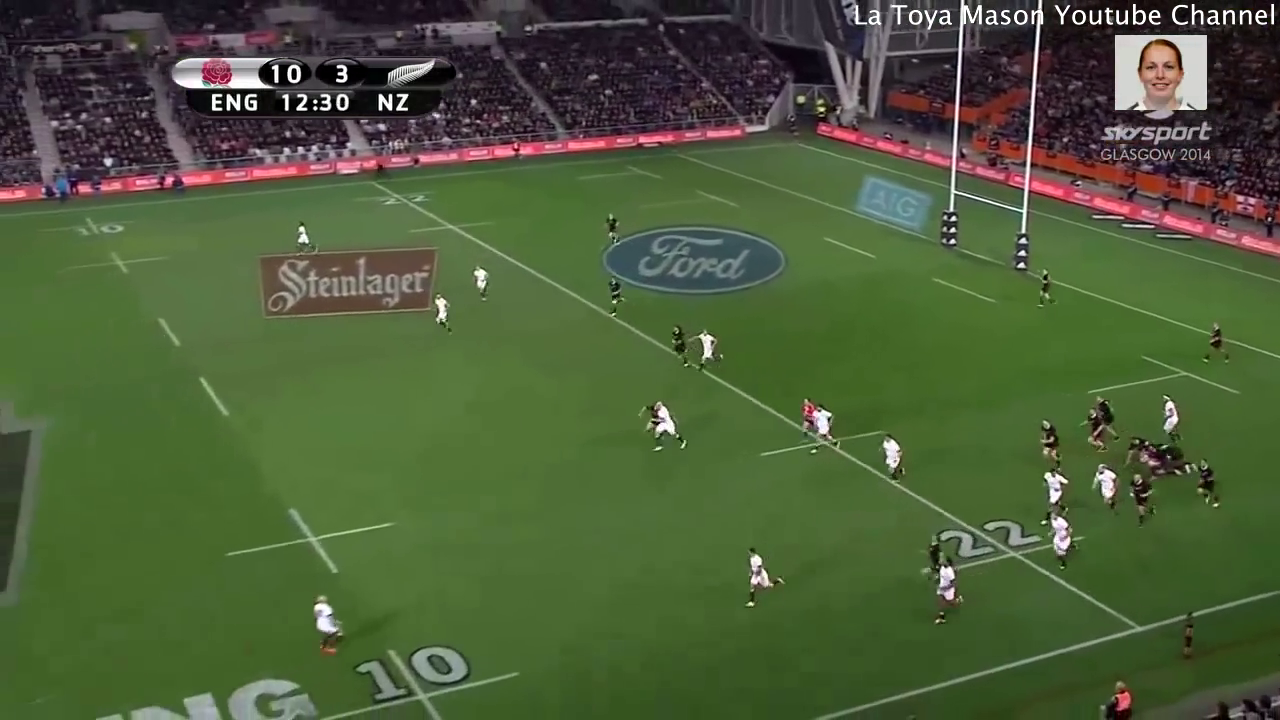10_metre: (320, 636, 524, 720), (224, 499, 402, 589), (64, 246, 173, 282), (32, 215, 139, 244)
player: (737, 536, 784, 620), (930, 553, 968, 625), (1037, 509, 1080, 569), (307, 590, 345, 656), (654, 403, 690, 463), (686, 325, 731, 371), (806, 400, 838, 458), (874, 429, 909, 481), (1087, 463, 1121, 516), (1033, 417, 1069, 460), (1089, 391, 1118, 443), (425, 289, 457, 336), (1203, 319, 1231, 370), (1126, 474, 1154, 523), (1039, 467, 1071, 509), (288, 219, 321, 257), (1199, 458, 1222, 507), (669, 316, 689, 372), (1159, 392, 1181, 441), (604, 276, 628, 316), (467, 264, 493, 299), (1081, 408, 1104, 447), (1034, 263, 1053, 308), (922, 534, 941, 573), (638, 394, 659, 428), (797, 396, 813, 436), (602, 210, 617, 252)
post: (946, 28, 1049, 282)
